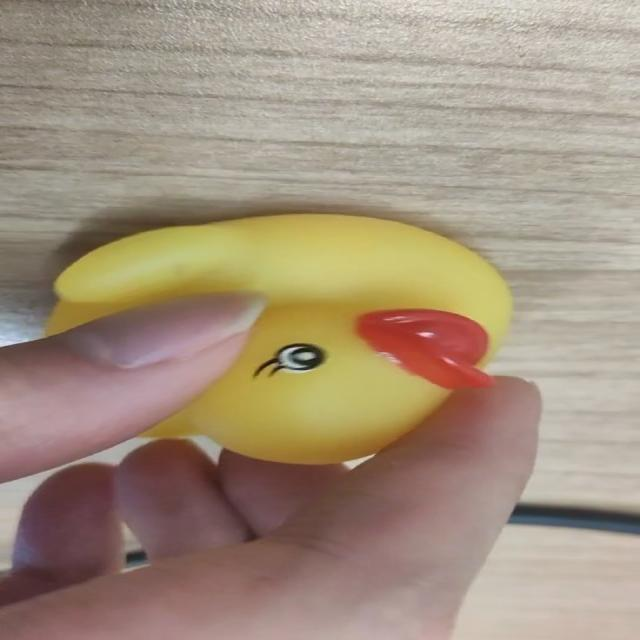rubber-duck: (47, 213, 510, 461)
